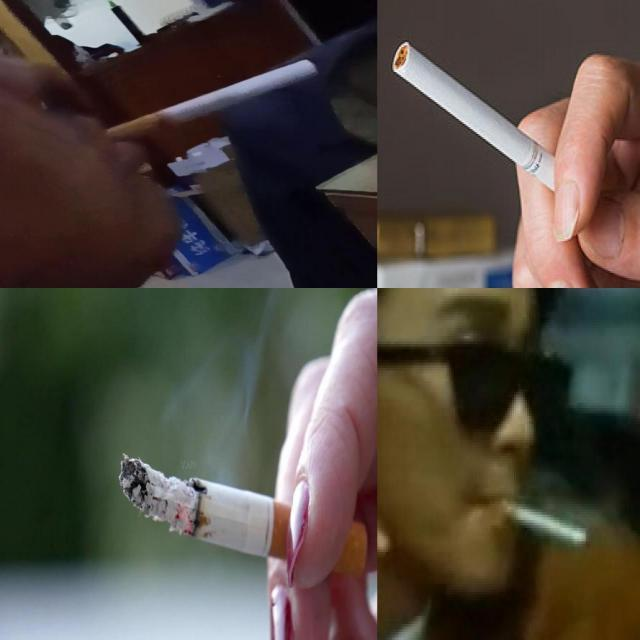cigarette: (392, 41, 586, 202), (118, 452, 368, 572), (104, 58, 322, 142), (490, 494, 588, 549)
